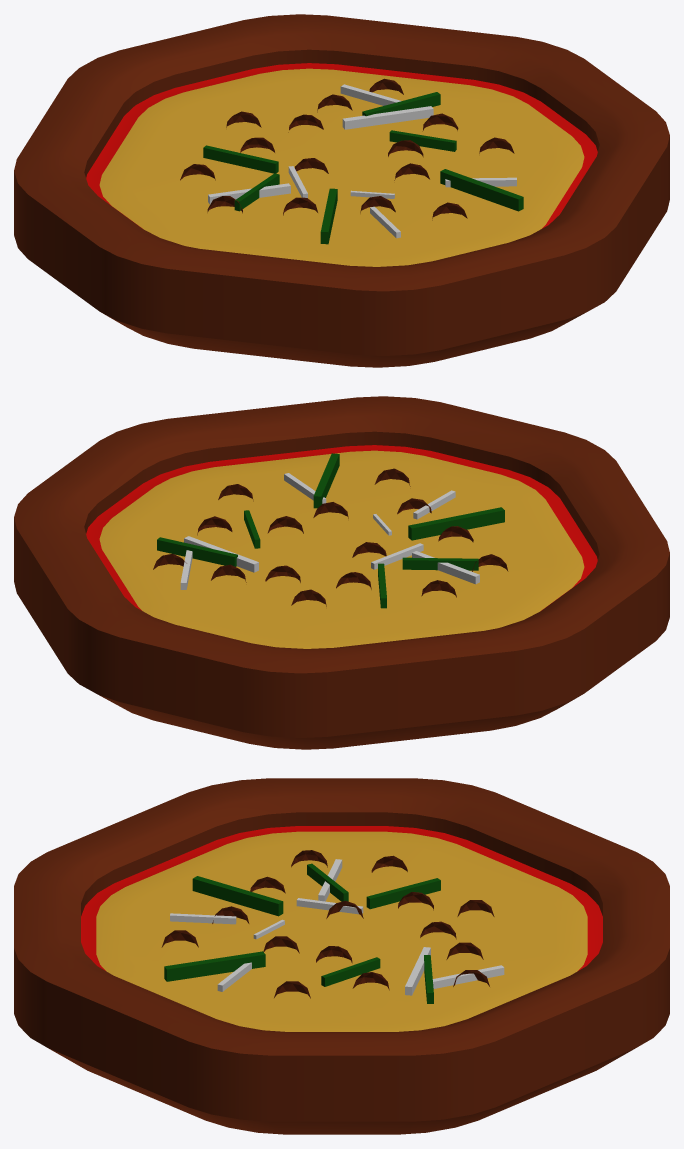
The model's file is Combo Pizza.obj.
The picture shows the model from 3 angles, top to bottom: view 1: azimuth 30°, elevation 25°; view 2: azimuth 150°, elevation 25°; view 3: azimuth 270°, elevation 25°; orthographic projection. The views are drawn at different scales.
Parts seen in each view (by area): view 1: Combo_Pizza_Cube.006; view 2: Combo_Pizza_Cube.006; view 3: Combo_Pizza_Cube.006.
Part boxes in pixels (<box>): Combo_Pizza_Cube.006: <box>14,14,669,367</box>; Combo_Pizza_Cube.006: <box>14,396,669,749</box>; Combo_Pizza_Cube.006: <box>14,778,669,1134</box>.
Size of the model in its own units: 2 by 0.4132 by 2.
